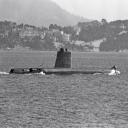submarine: (10, 52, 117, 76)
